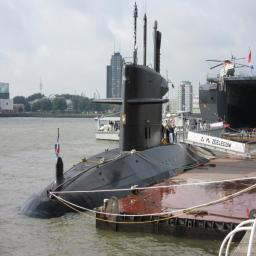submarine: (19, 2, 217, 221)
